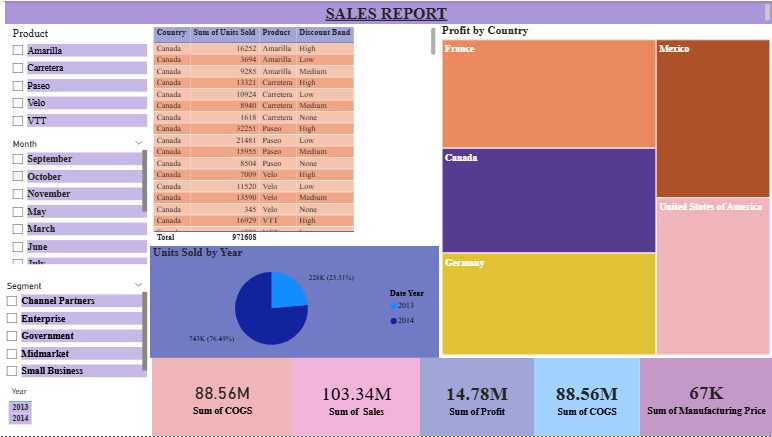

What the dashboard file says about the page in this screenshot:
{"tool":"powerbi","page":{"name":"Page 1","canvas":[1280,720],"ordinal":0},"visuals":[{"type":"textbox","box":[10.1,0,1269.9,38.6],"z":0},{"type":"card","fields":{"Values":["Sum(financials. Sales)"]},"box":[486.2,590.4,210,130.6],"z":1000},{"type":"slicer","fields":{"Values":["financials.Product"]},"box":[10.1,38.6,240.2,184.8],"z":2000},{"type":"slicer","fields":{"Values":["financials.Month"]},"box":[10.1,223.4,240.2,216.7],"z":3000},{"type":"slicer","fields":{"Values":["financials.Segment"]},"box":[0,458.1,249.7,170.3],"z":4000},{"type":"card","fields":{"Values":["Sum(financials.Profit)"]},"box":[696.2,590.4,188.5,130.6],"z":5000},{"type":"card","fields":{"Values":["Sum(financials.COGS)"]},"box":[884.8,590.4,175.3,130.6],"z":6000},{"type":"pieChart","title":"Units Sold by Year","fields":{"Category":["financials.Date.Variation.Date Hierarchy.Year","financials.Date.Variation.Date Hierarchy.Quarter","financials.Date.Variation.Date Hierarchy.Month","financials.Date.Variation.Date Hierarchy.Day"],"Y":["Sum(financials.Units Sold)"]},"box":[249.7,405.2,477.9,185.2],"z":7000},{"type":"card","fields":{"Values":["Sum(financials.Manufacturing Price)"]},"box":[1060.1,590.4,219.9,129],"z":8000},{"type":"treemap","title":" Profit by Country","fields":{"Group":["financials.Country"],"Values":["Sum(financials.Profit)"]},"box":[727.6,38,552.4,552.4],"z":9000},{"type":"tableEx","fields":{"Values":["financials.Year"]},"box":[9.9,630.1,167,89.3],"z":10000},{"type":"card","fields":{"Values":["Sum(financials.COGS)"]},"box":[253,590.4,233.2,129],"z":11000},{"type":"tableEx","fields":{"Values":["financials.Country","Sum(financials.Units Sold)","financials.Product","financials.Discount Band"]},"box":[249.7,38,477.9,367.1],"z":12000}]}

Visuals, with their boxes in screenshot pixels (x1, y1, x2, y2):
textbox: region(12, 0, 767, 23)
card - Sum(financials. Sales): region(295, 351, 420, 429)
slicer - financials.Product: region(12, 23, 155, 133)
slicer - financials.Month: region(12, 133, 155, 262)
slicer - financials.Segment: region(6, 272, 155, 374)
card - Sum(financials.Profit): region(420, 351, 532, 429)
card - Sum(financials.COGS): region(532, 351, 637, 429)
"Units Sold by Year" pieChart: region(155, 241, 439, 351)
card - Sum(financials.Manufacturing Price): region(637, 351, 767, 428)
" Profit by Country" treemap: region(439, 23, 767, 351)
tableEx - financials.Year: region(12, 375, 111, 428)
card - Sum(financials.COGS): region(157, 351, 295, 428)
tableEx - financials.Country x Sum(financials.Units Sold): region(155, 23, 439, 241)
